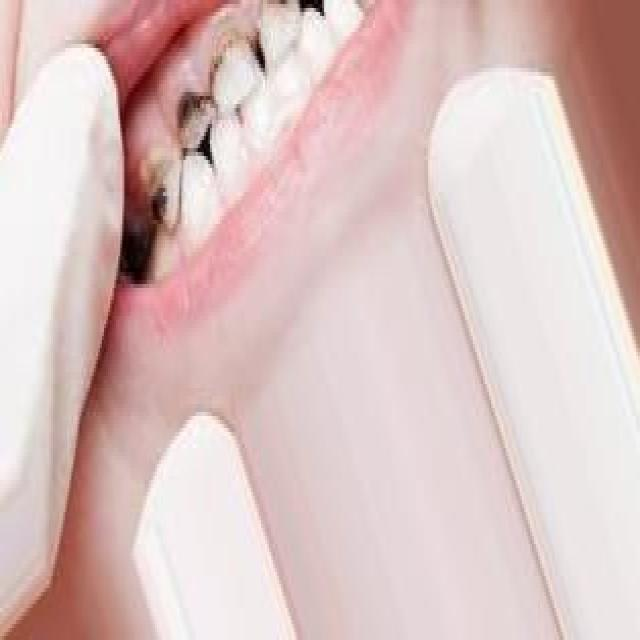caries: (144, 152, 178, 233), (178, 90, 213, 145), (213, 28, 250, 78)
